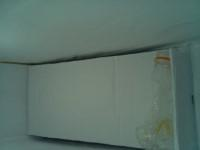bottle: (145, 47, 176, 149)
